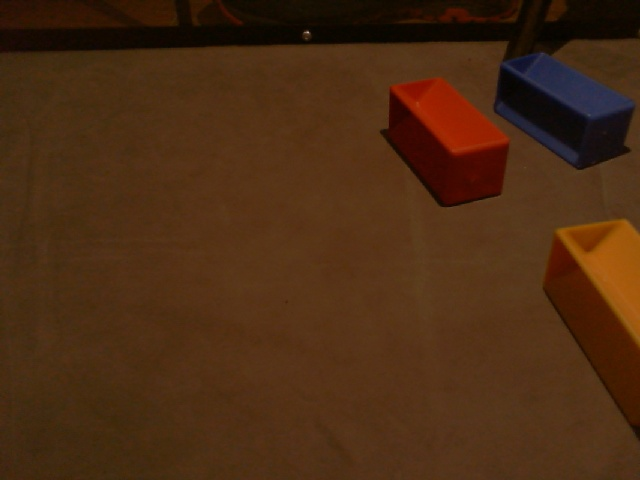BlueSample: (494, 49, 636, 171)
RedSample: (383, 76, 511, 209)
YellowSample: (541, 214, 640, 440)
